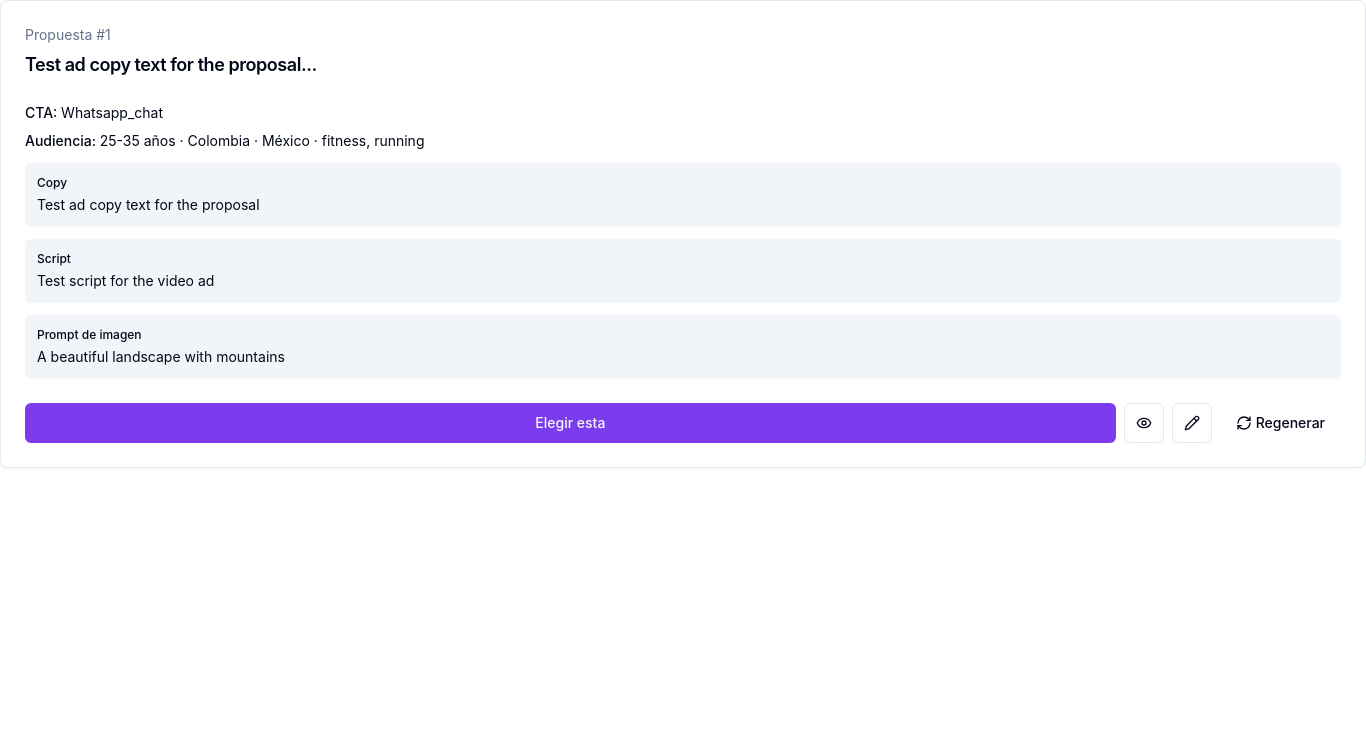
it: Proposal Editing › discards changes and exits edit mode on Cancel
This screenshot has width=1366, height=756.
Click the button titled "Editar".
click(1192, 423)  # box [1172,403,1212,443]
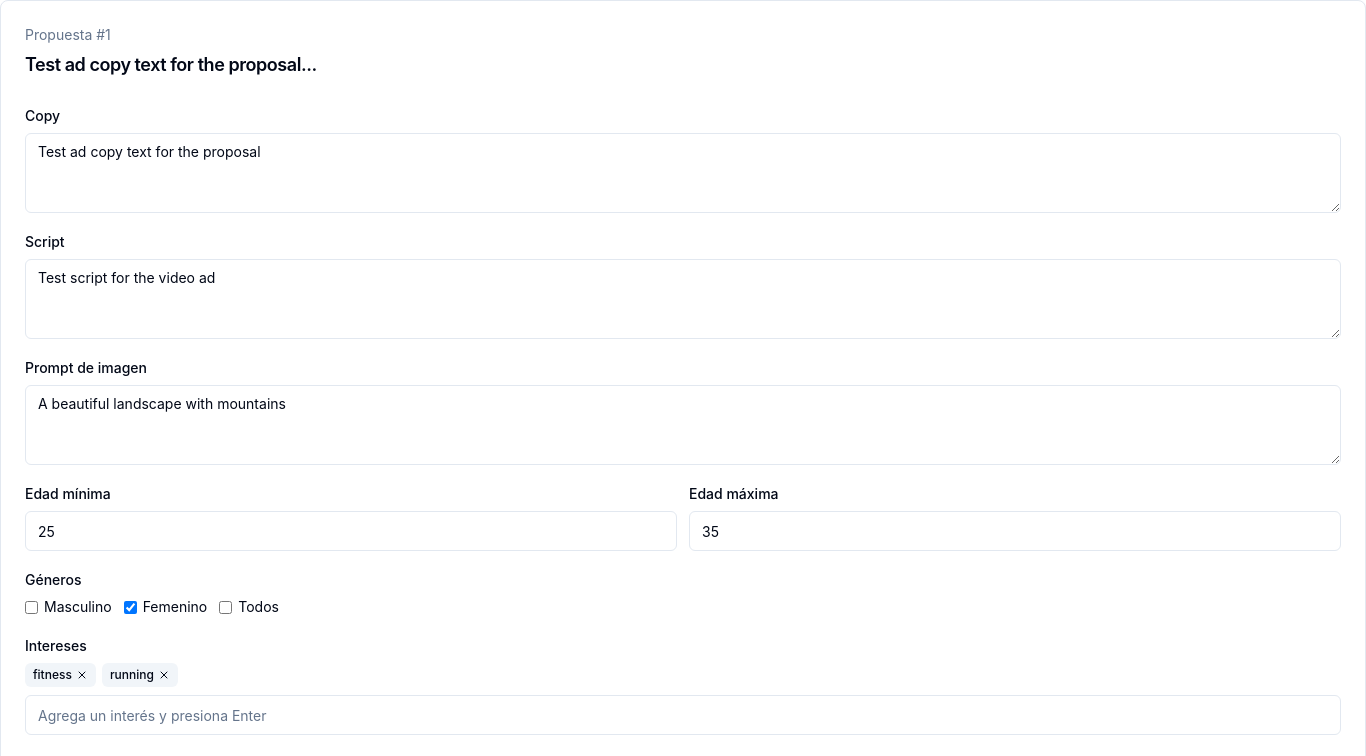
Replace the text in the text box labelled "Copy" with "Changed text" at (683, 173), box [25,133,1341,213]
(page scrolled)
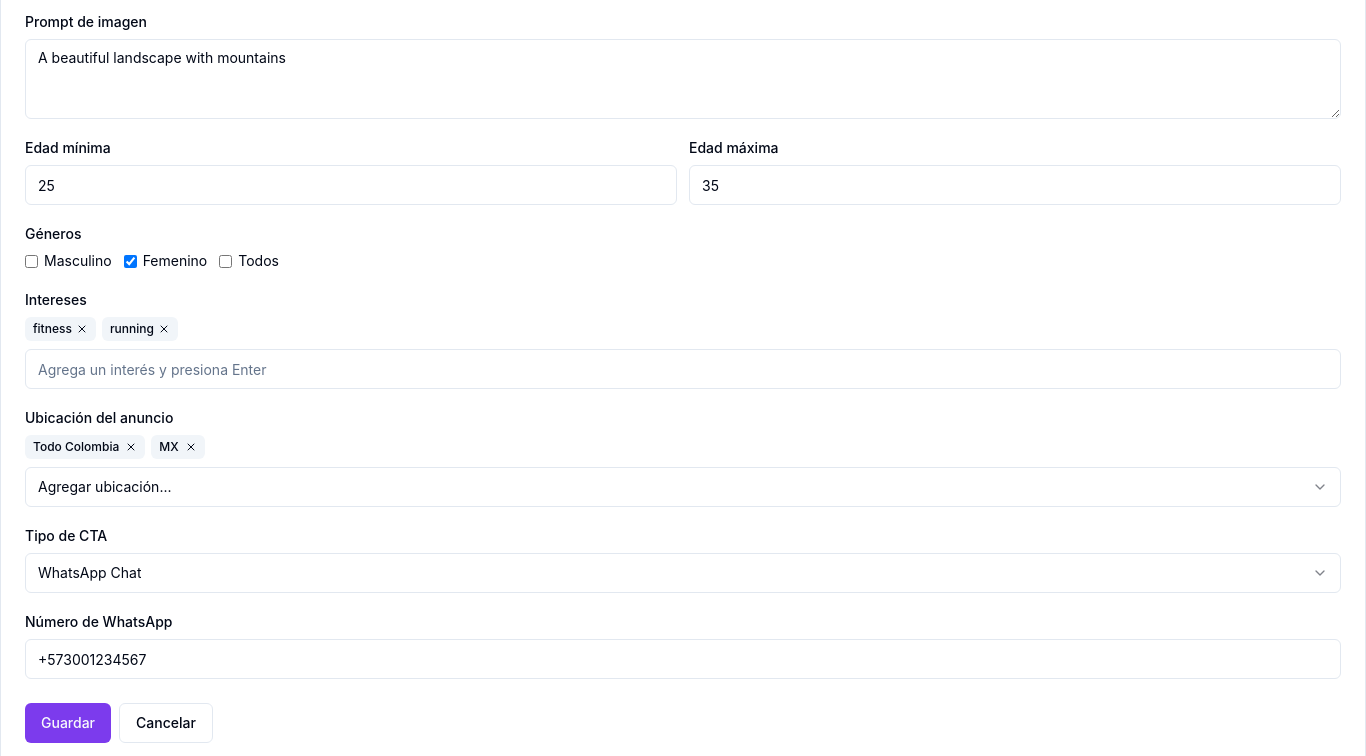
Click the button "Cancelar".
click(166, 723)  # box [119,703,213,743]
(page scrolled)
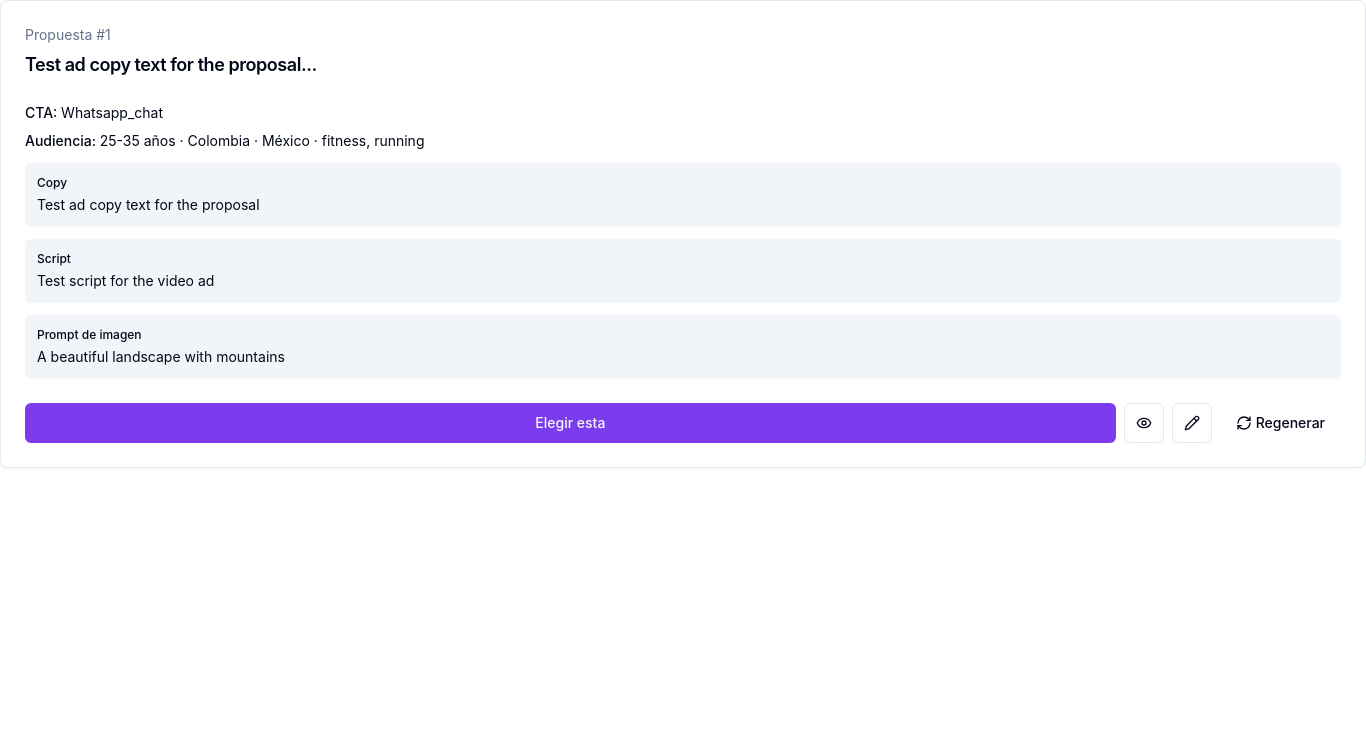
Result: the text "Test ad copy text for the proposal" is shown at [37,196,260,213]
